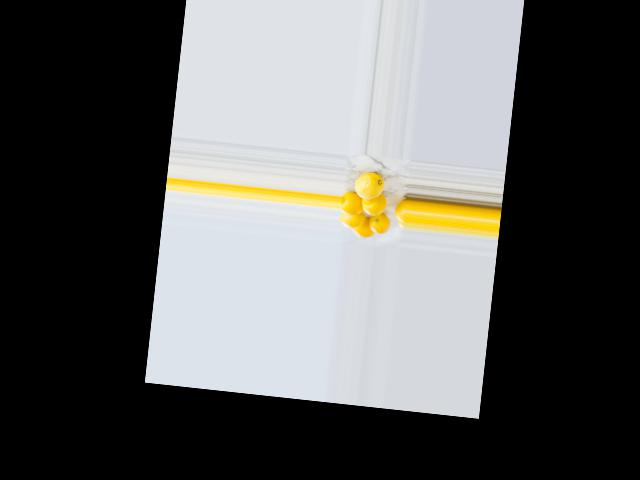lemon: (350, 170, 389, 203)
